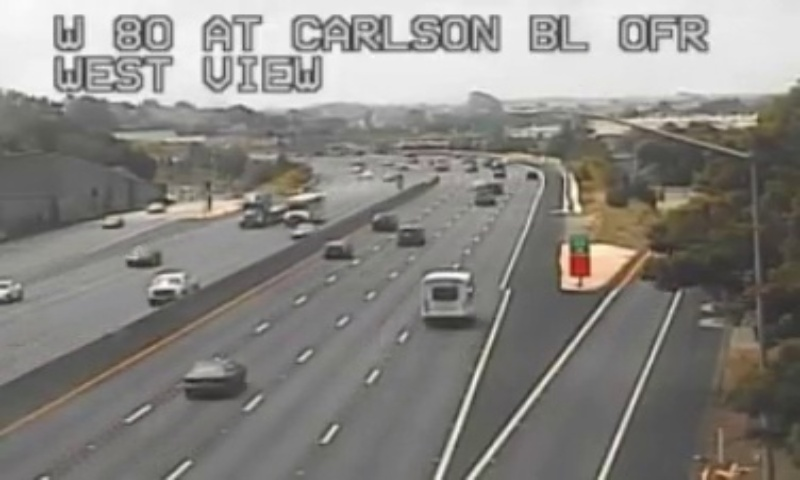bus: (419, 270, 472, 319)
car: (182, 360, 244, 395), (395, 225, 423, 247), (323, 240, 348, 258)
